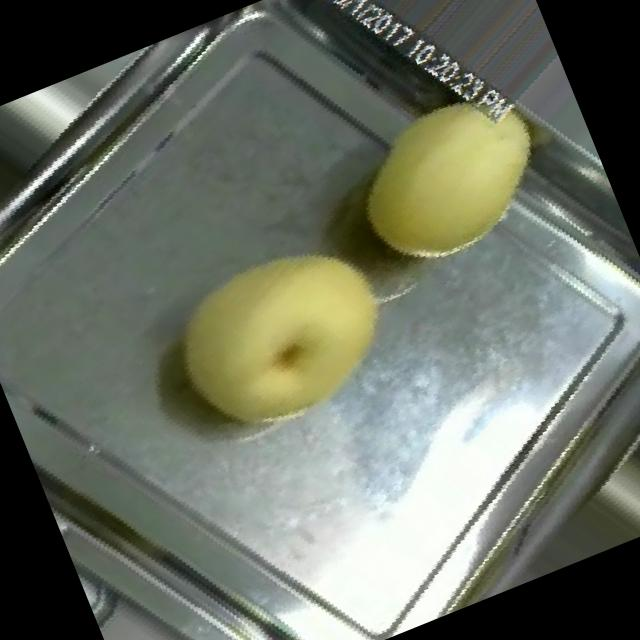Fruit: (108, 177, 452, 497), (304, 39, 598, 316)
